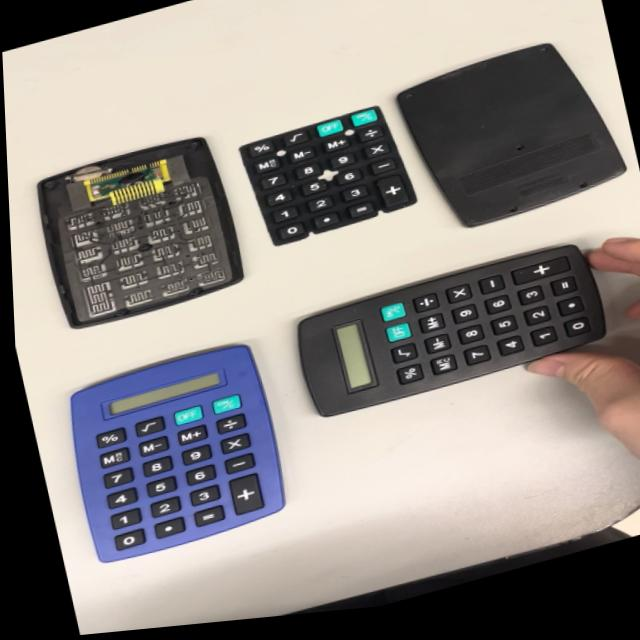back_cover: (391, 24, 636, 247)
calculator: (283, 233, 615, 425), (48, 333, 300, 578)
front_panel: (16, 115, 253, 342)
number_pad: (227, 94, 423, 259)
